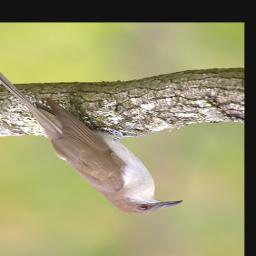Cuckoo: (0, 55, 185, 216)
